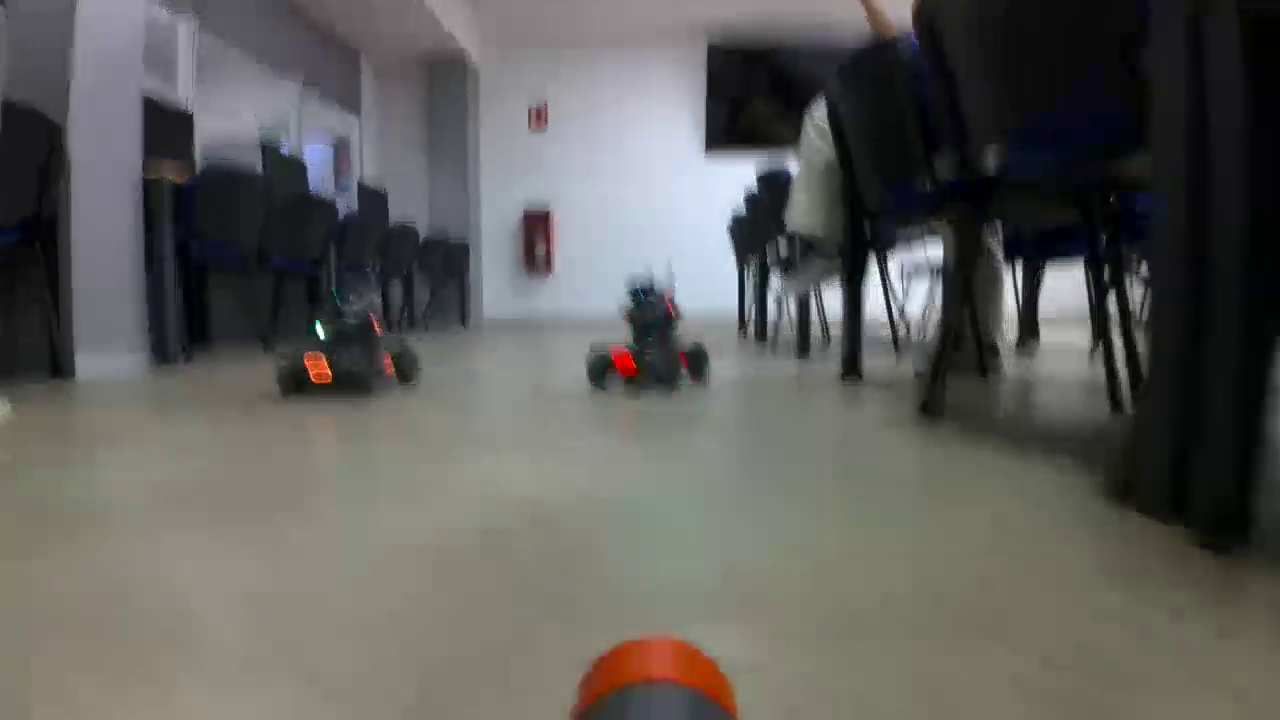robot: (585, 305, 710, 410), (277, 322, 420, 412)
